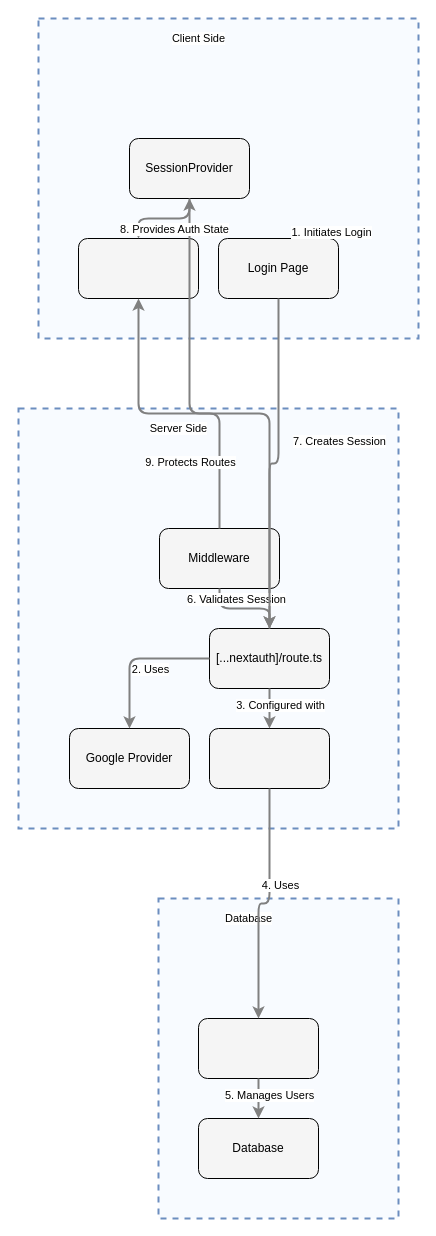
Some shapes in this 436 by 1236 pixel diagram are drawn without their labels. The centre of each missing label's shape, as x and y in pixels:
Auth Options: point 269,758
Dashboard: point 138,268
Prisma Adapter: point 258,1048
